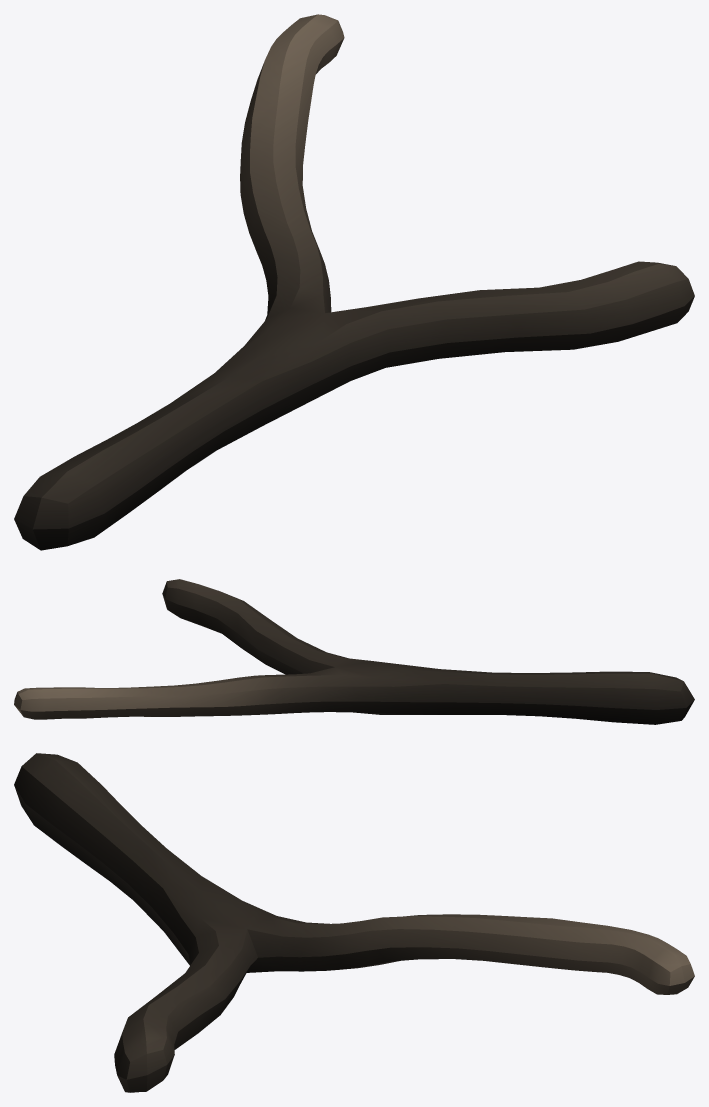
Rendered from branch7.fbx.
3 views of the same model, one above another, from view 1: azimuth 30°, elevation 25°; view 2: azimuth 150°, elevation 25°; view 3: azimuth 270°, elevation 25° (orthographic). The views are drawn at different scales.
Visible parts, largest first — view 1: branch7; view 2: branch7; view 3: branch7.
Boxes of the visible parts, bbox=[...] form: branch7: bbox=[14, 14, 694, 550]; branch7: bbox=[14, 579, 694, 724]; branch7: bbox=[14, 753, 694, 1092].
Size of the model in its own units: 319 by 62.74 by 278.
